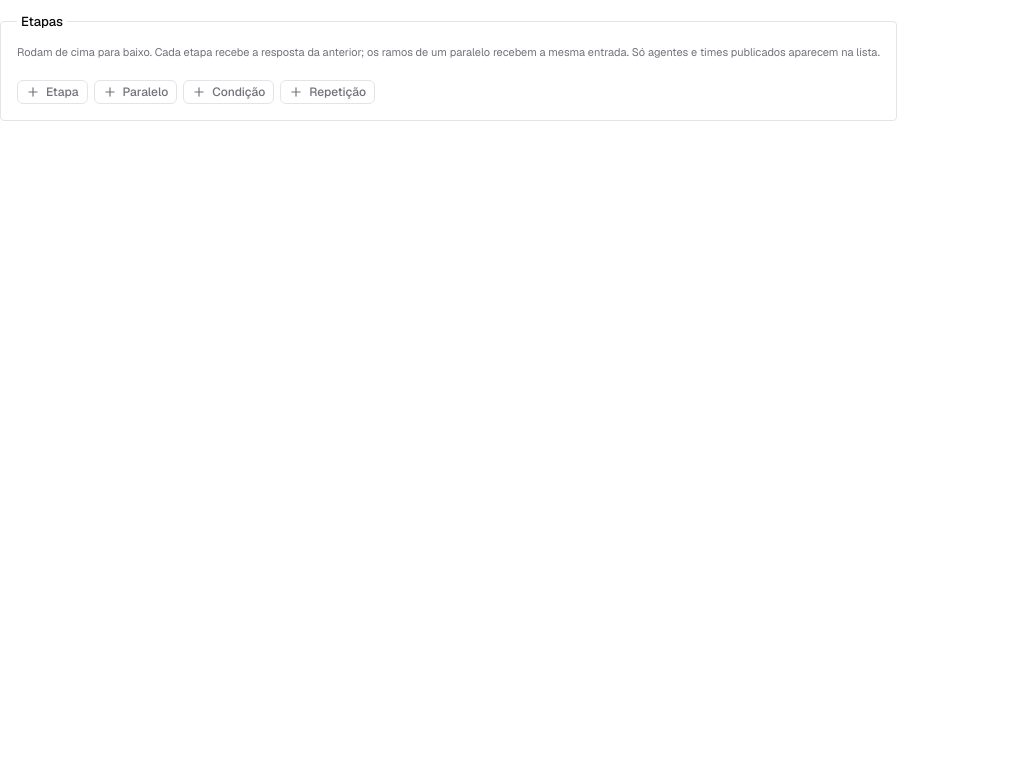
WorkflowEditor › repetição com regra de parada, reordenação e limite de aninhamento
Click the button "Etapa": click(52, 92) [17,80,88,104]
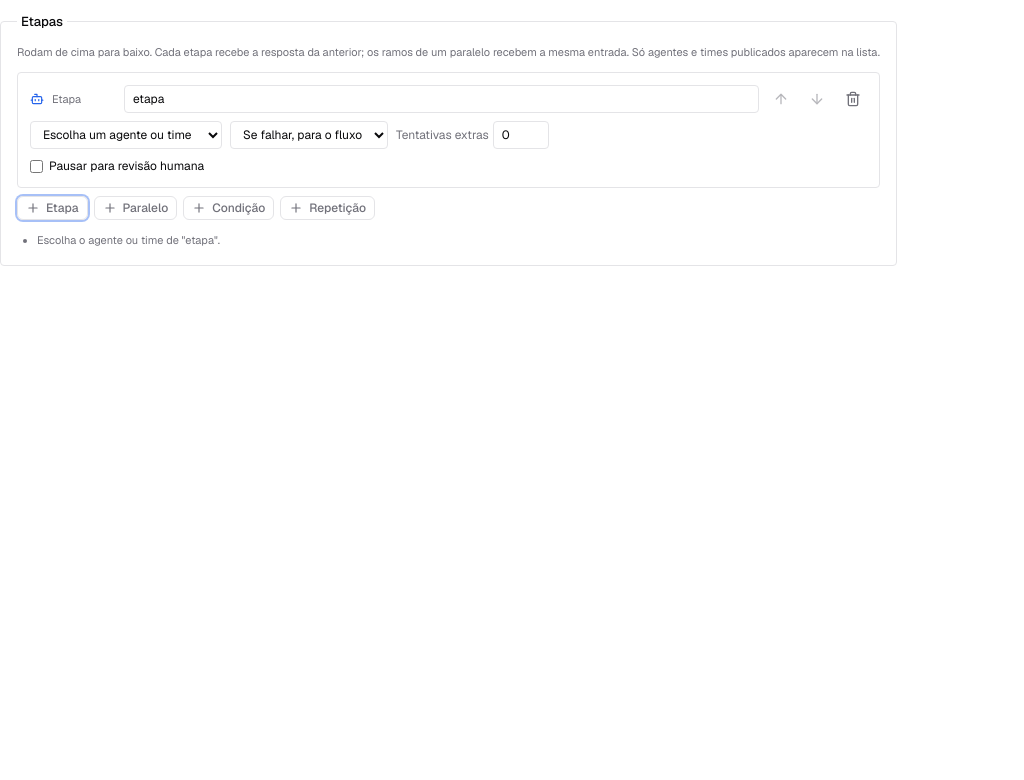
Click the button "Repetição": click(328, 208) [280,196,375,220]
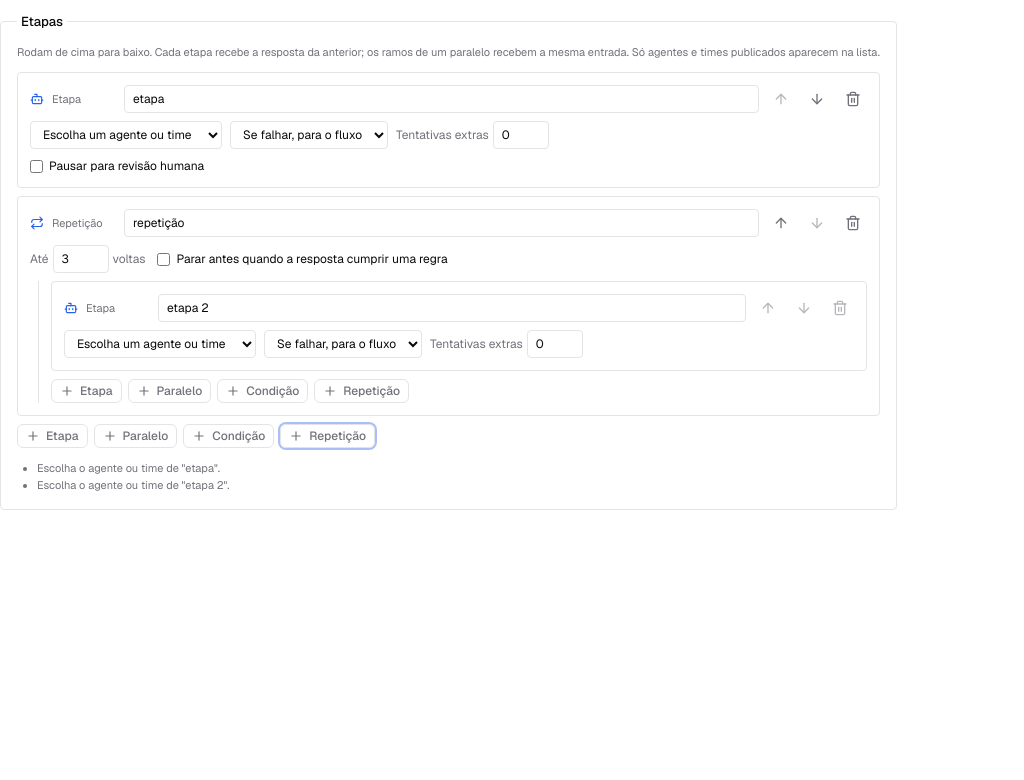
Click the checkbox labelled "Parar antes quando a resposta cumprir uma regra": click(164, 259) [158,252,170,266]
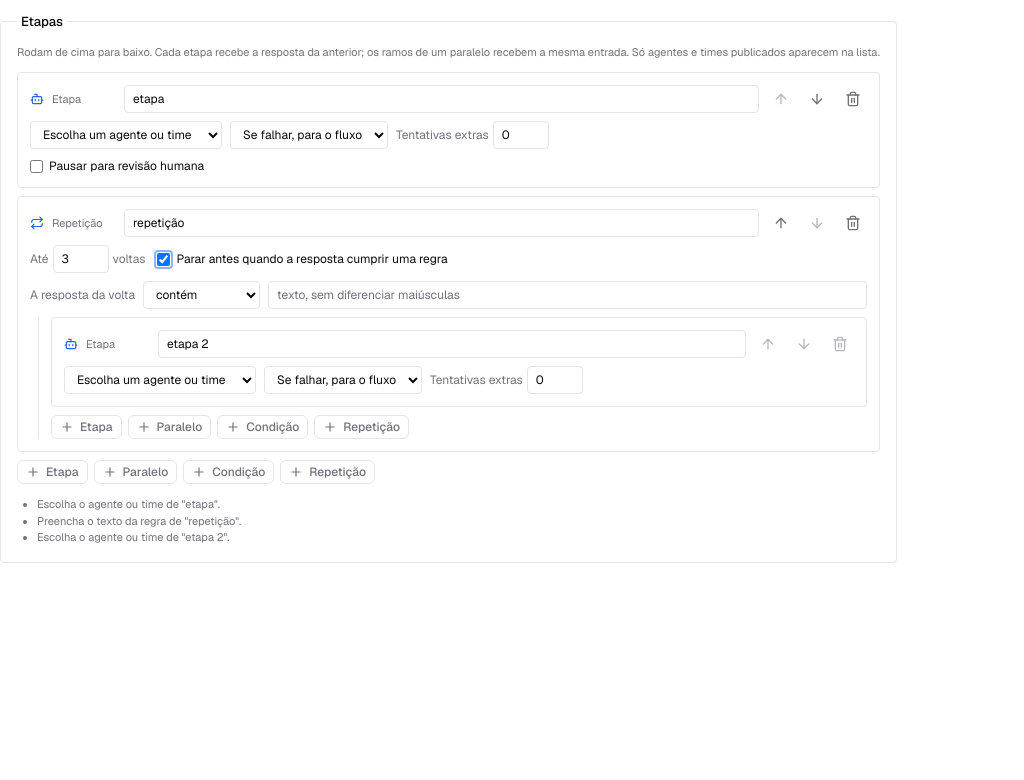
In the field named "Texto da regra de repetição": (567, 295) [268,281,867,309], type "pronto"
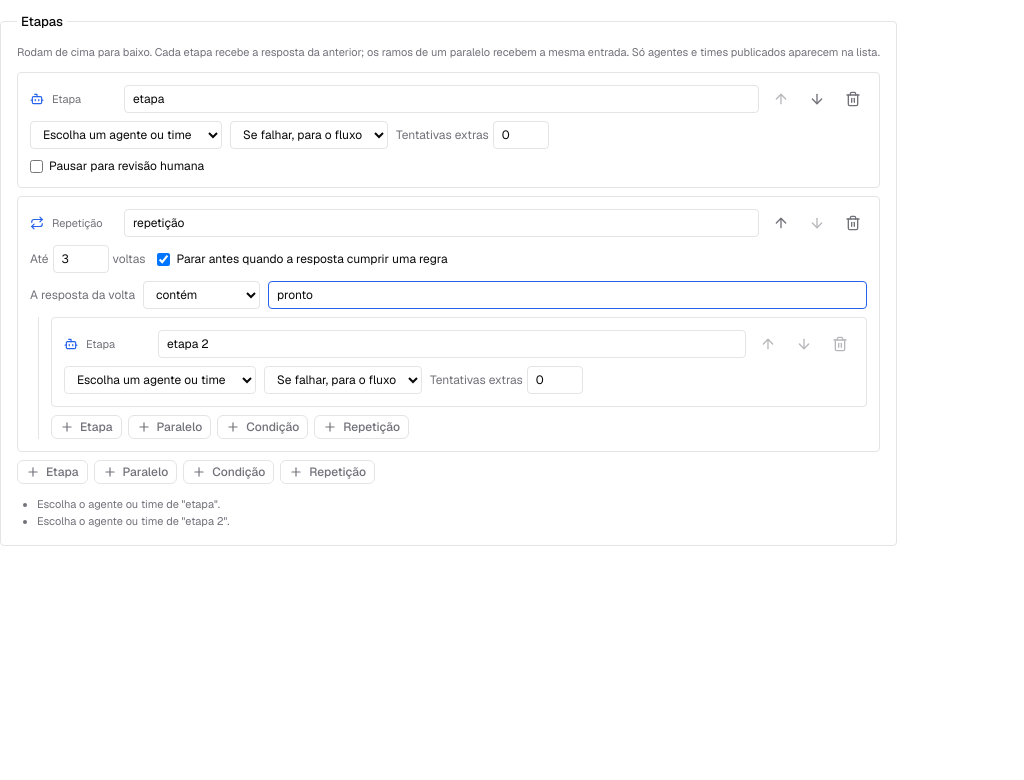
Click the button named "Subir repetição": click(781, 223) [767,209,795,237]
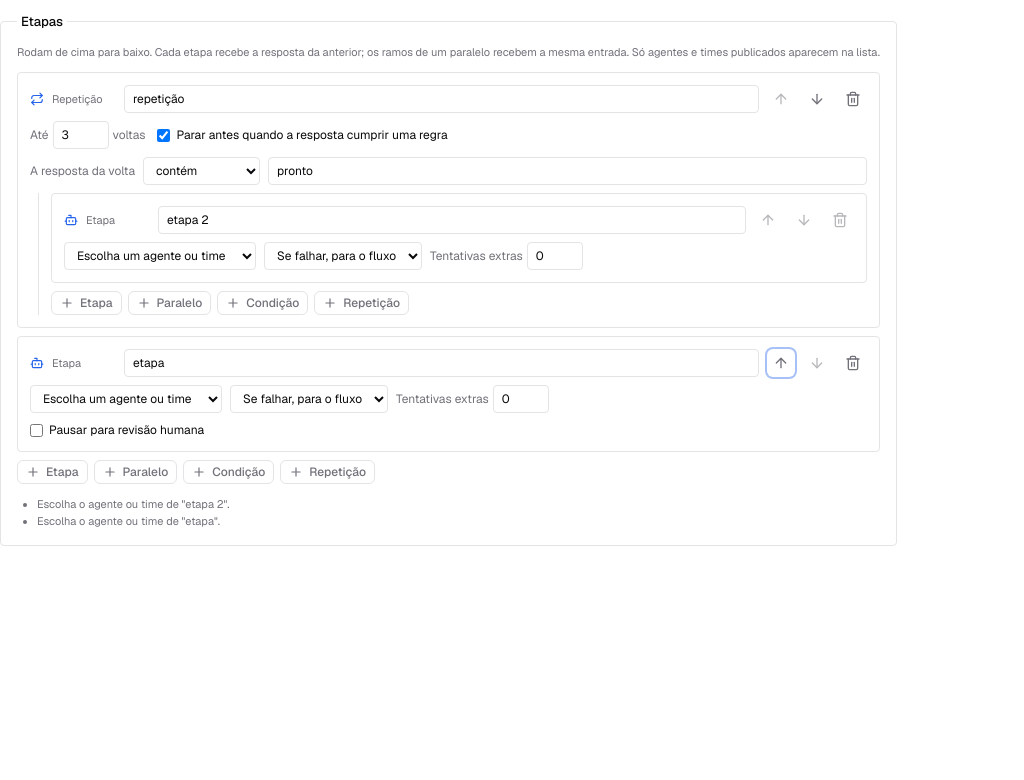
Click the button "Condição" below "Até": click(263, 303) [217,291,308,315]
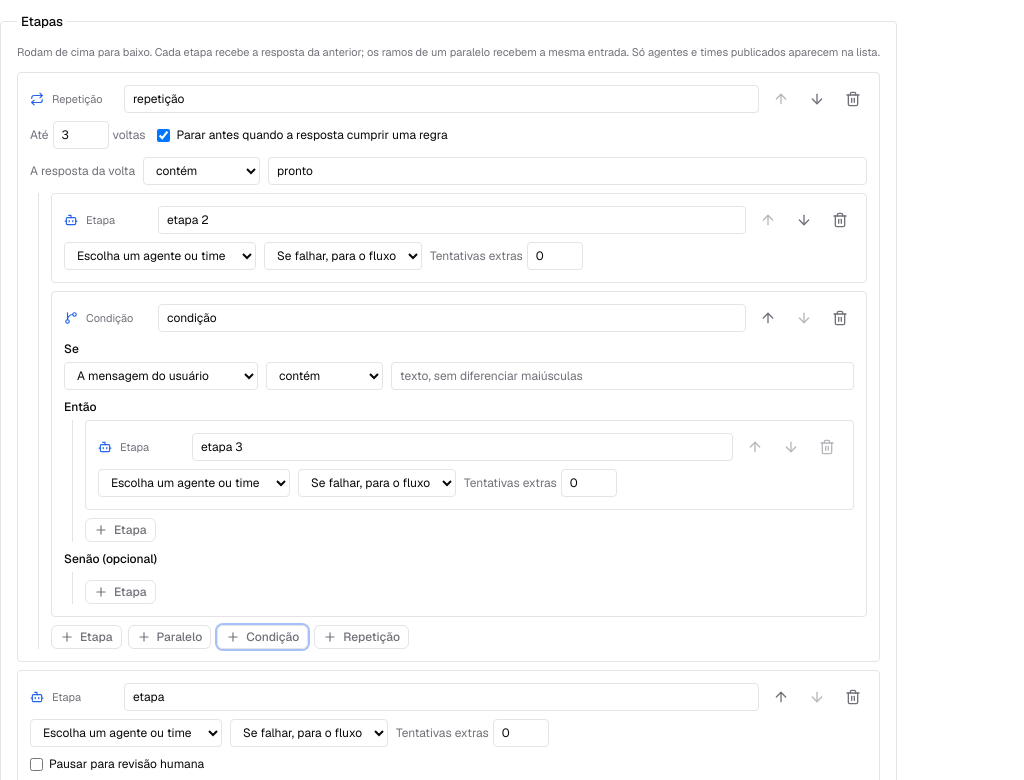
Check: the button "Etapa" below "Então" is shown, box [85,518,156,542]
